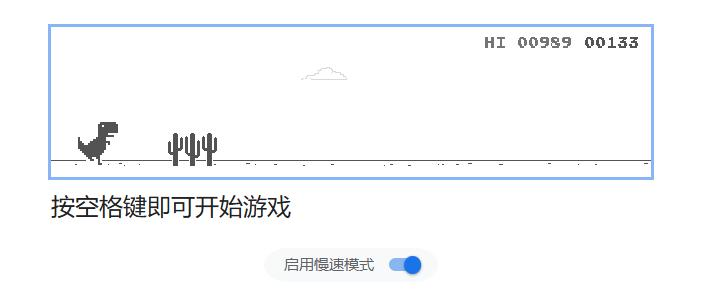cactus: (167, 132, 218, 168)
dino: (75, 121, 119, 165)
